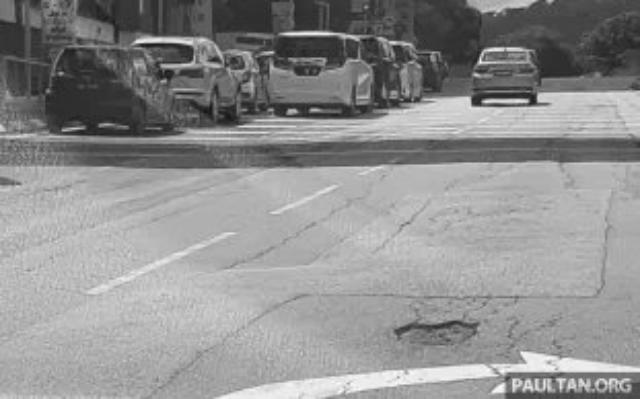Pothole: (385, 316, 483, 352)
